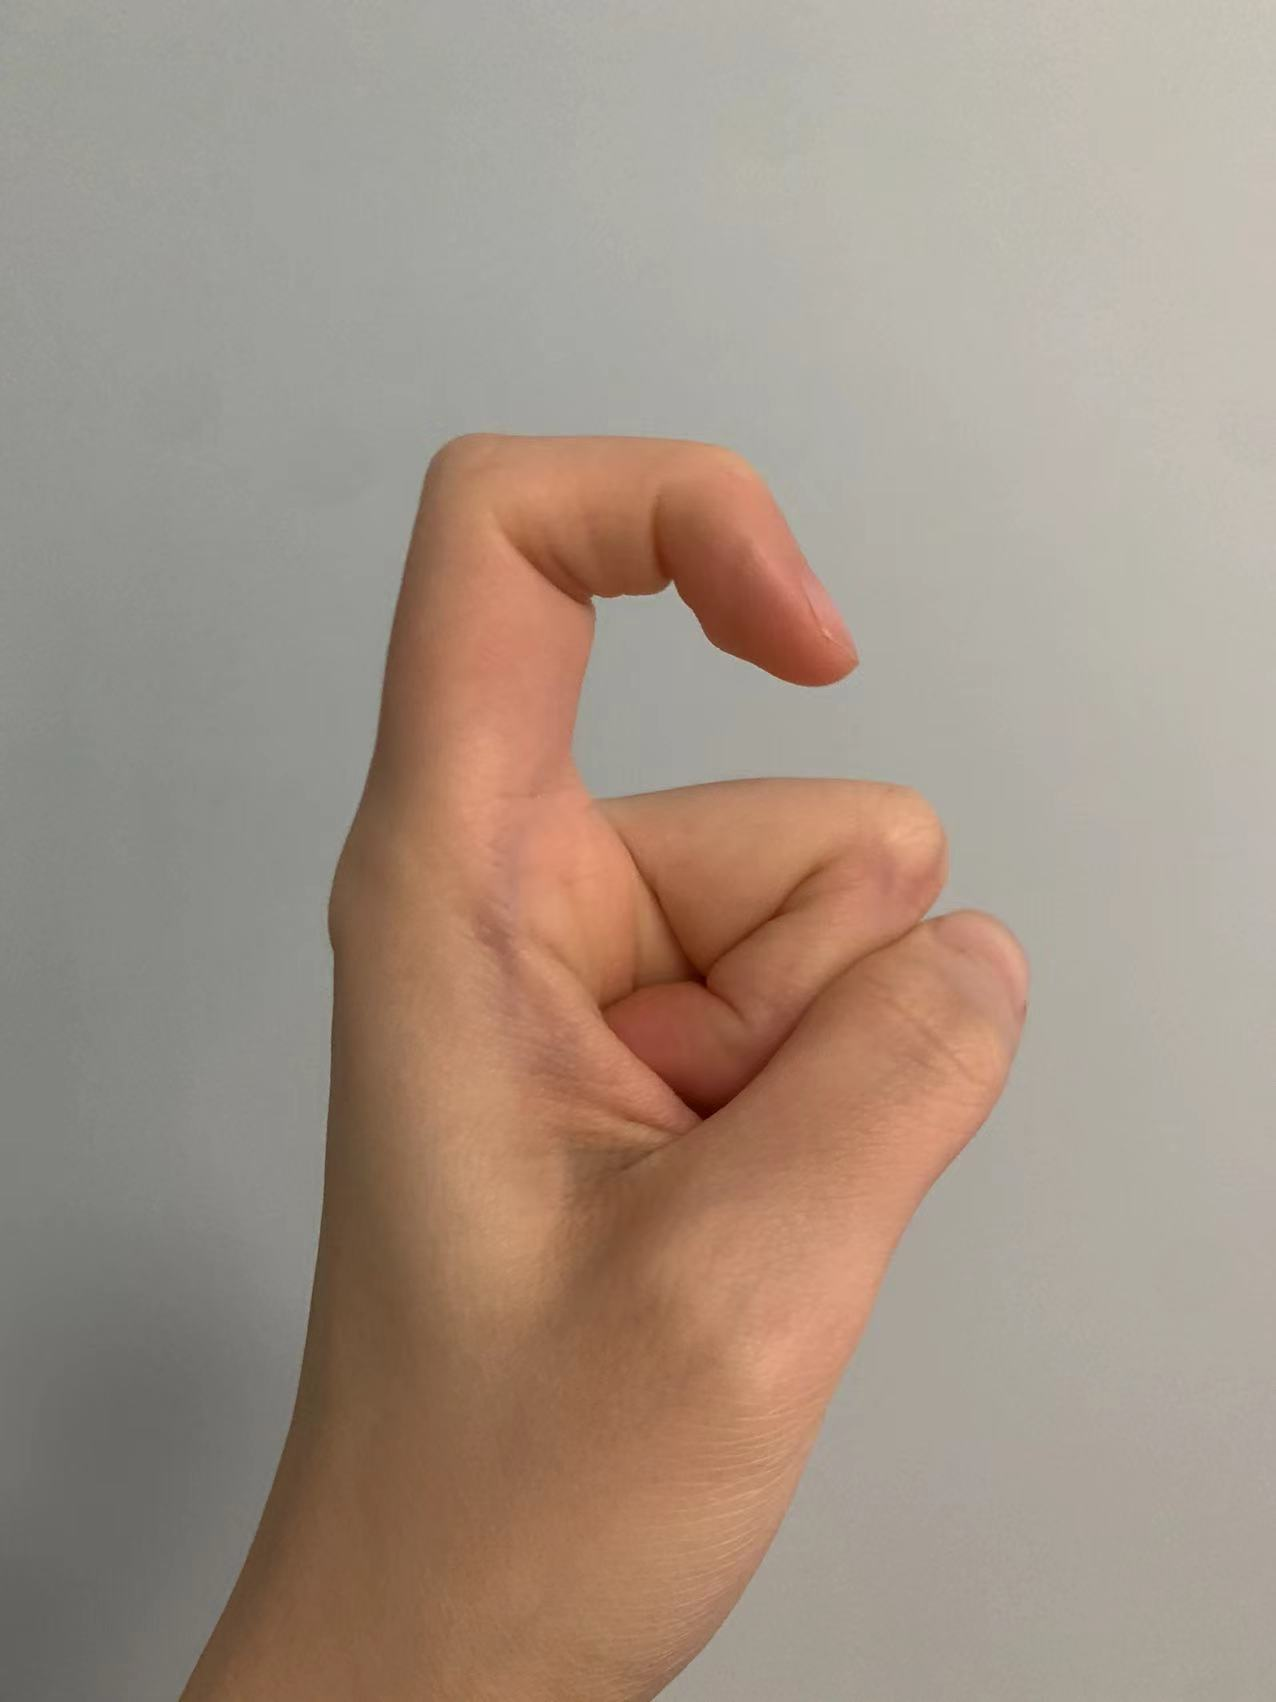anticlockwise: (249, 423, 1023, 1620)
